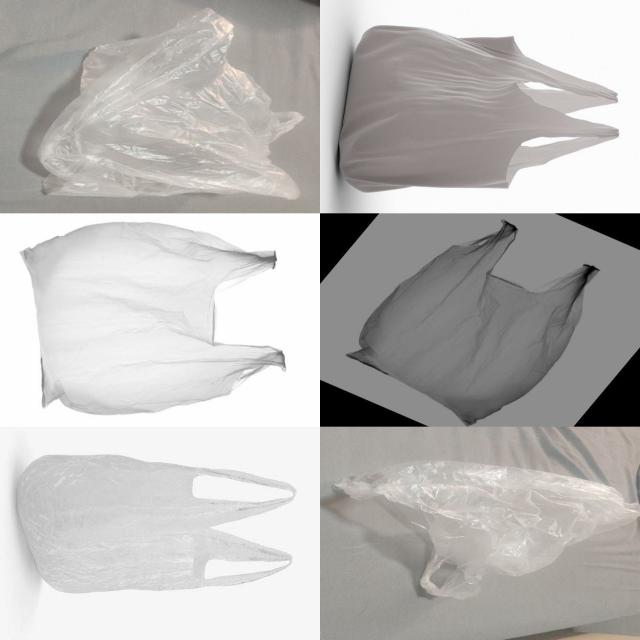Single-layer Plastic: (348, 220, 598, 425), (21, 222, 285, 414), (39, 9, 303, 199), (339, 25, 618, 192), (335, 460, 639, 598), (18, 455, 295, 592)
